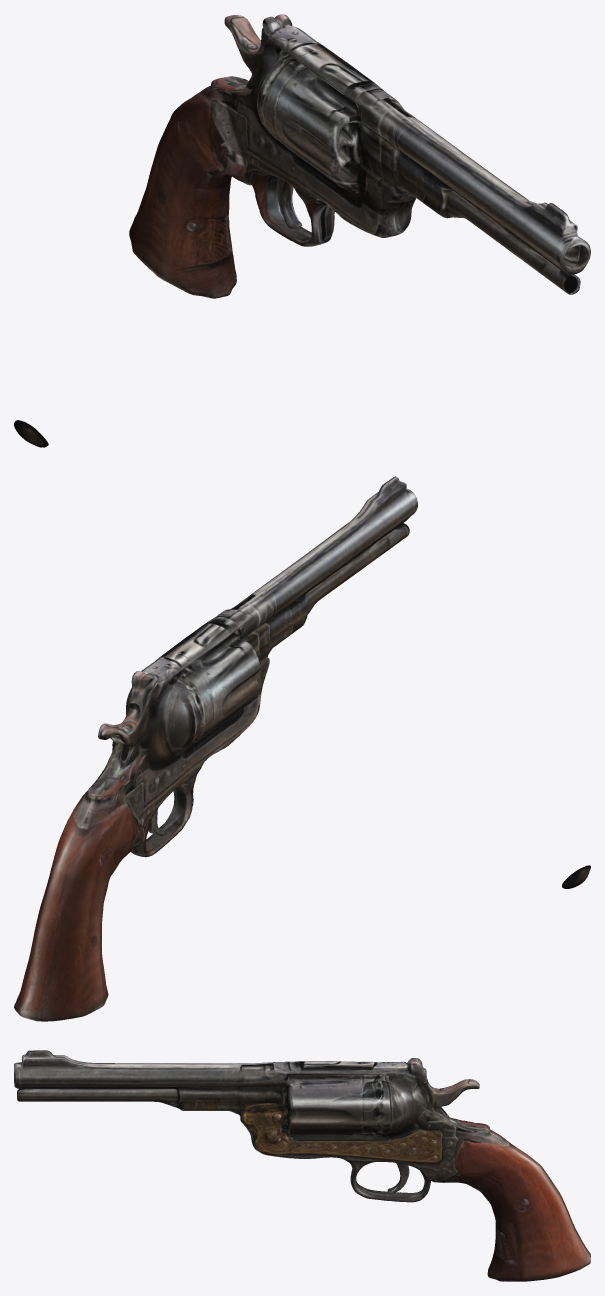
The model's file is wild-west-gun.glb.
3 renders of one model, top to bottom at view 1: azimuth 30°, elevation 25°; view 2: azimuth 150°, elevation 25°; view 3: azimuth 270°, elevation 25°, orthographic. The views are drawn at different scales.
Bounding box in the file's own units: 1.13 × 0.8719 × 2.
Materials: 1 (1 with a texture image).
